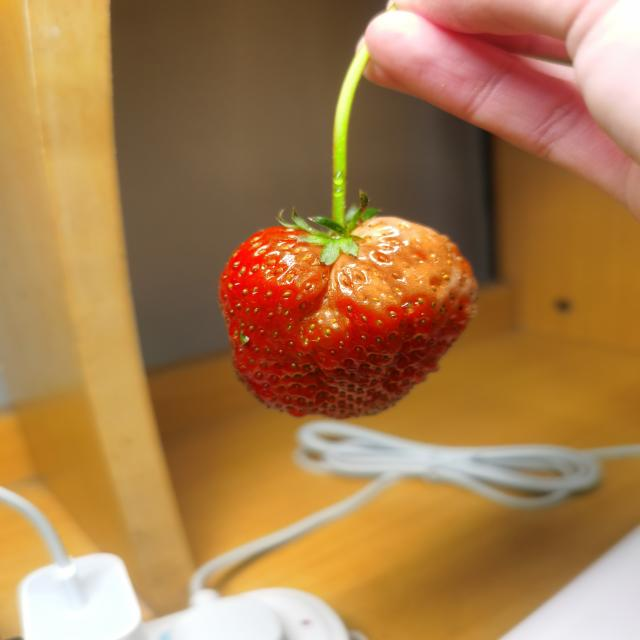stem: (331, 108, 350, 239)
strawberry: (218, 217, 478, 418)
